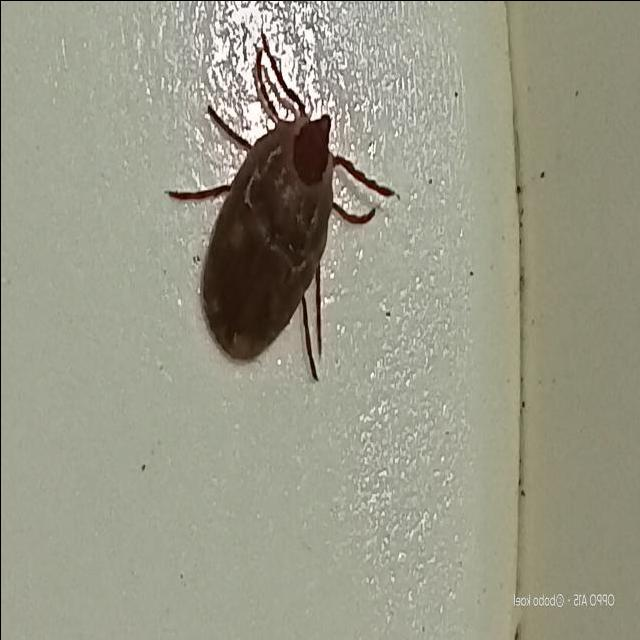Rhipicephalus Sanguineus-F-Fed: (165, 28, 397, 382)
